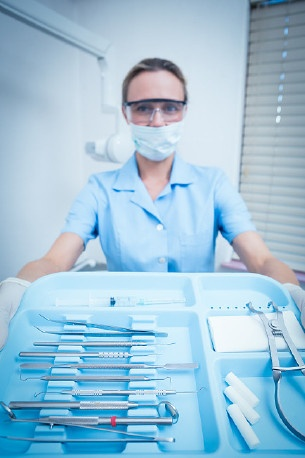Mask: (122, 95, 186, 159)
